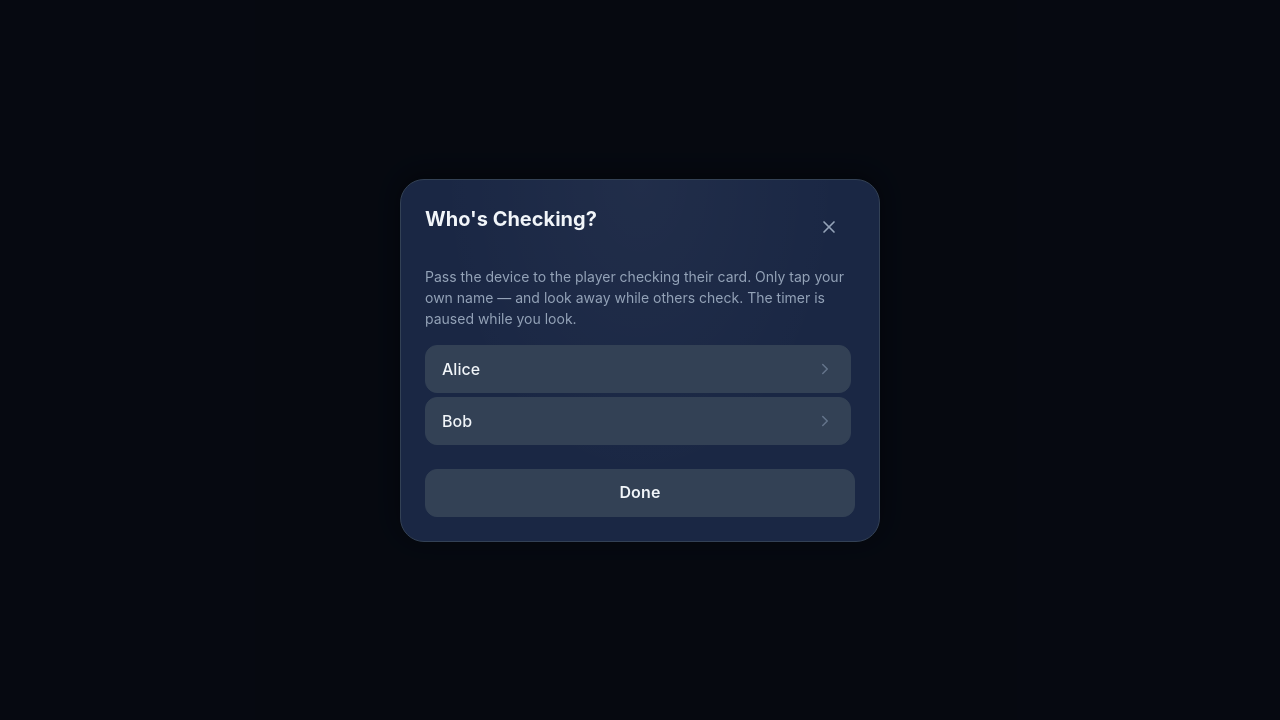
Test: RoleReviewModal › shows the category to a spy when the setting is enabled
Click the button "Bob". click: point(457, 420)
box: [425,396,851,444]
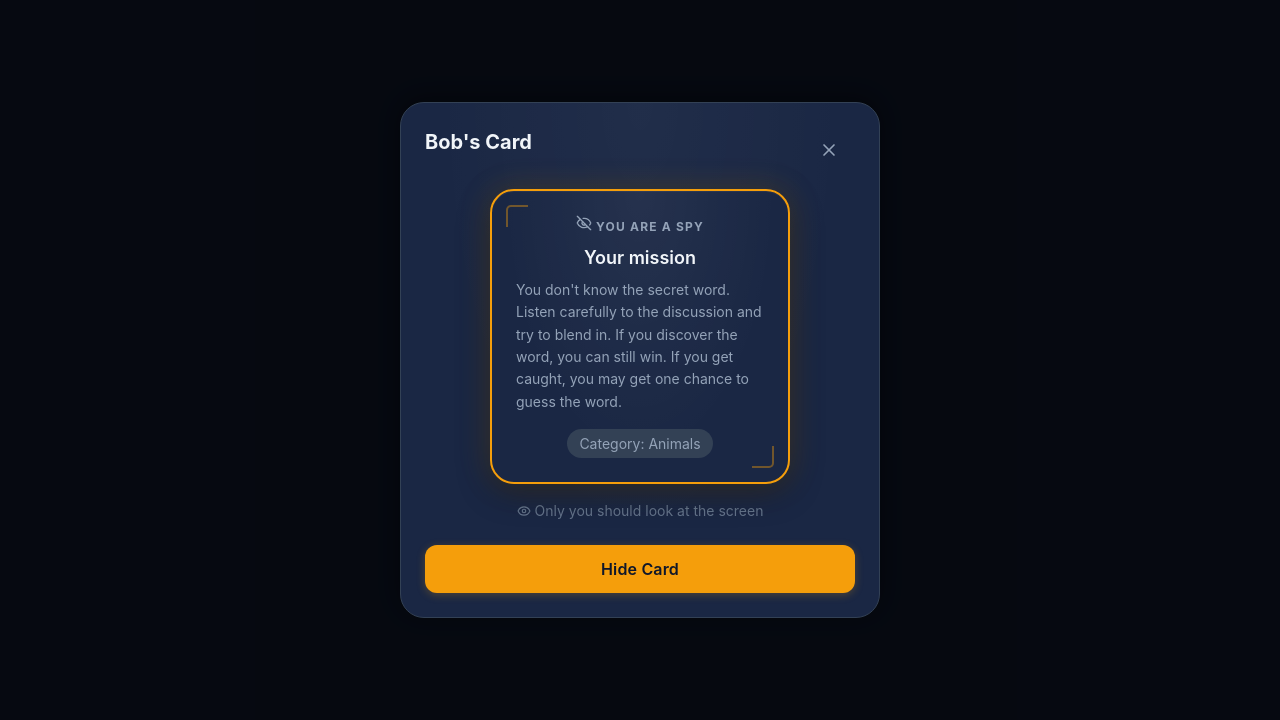
Now the text "Category: Animals" is shown, box [567,429,713,458]
